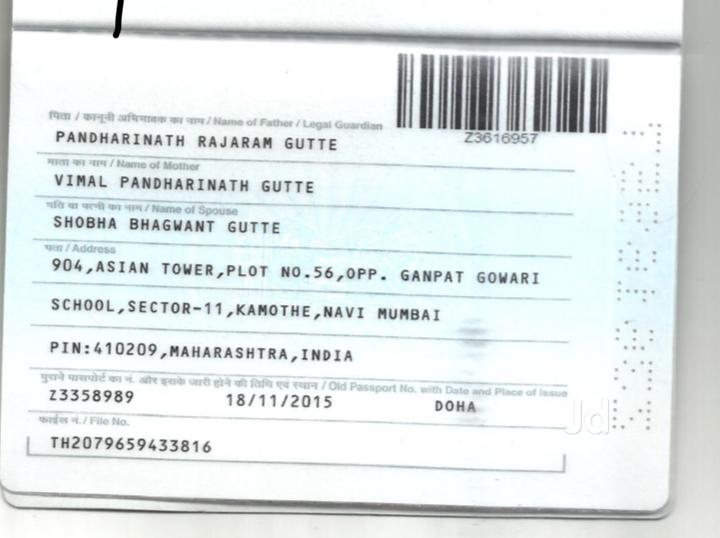File_no: (47, 432, 220, 457)
address: (33, 255, 551, 378)
father_name: (47, 123, 352, 165)
mother_name: (42, 165, 321, 202)
old_passport_details: (42, 385, 496, 419)
passport_no: (456, 128, 545, 153)
spouse_name: (48, 209, 285, 243)
